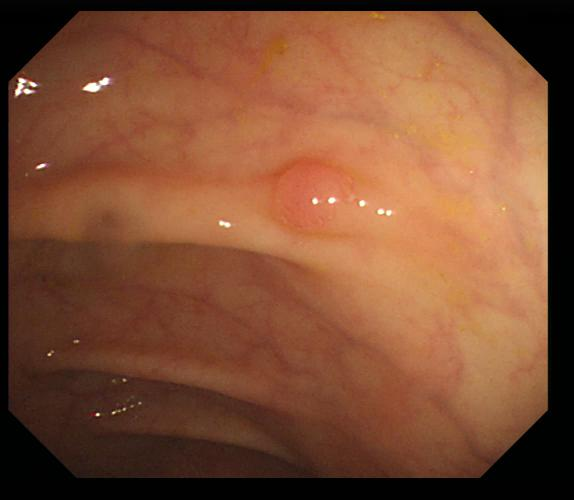polyp: (265, 155, 372, 244)
